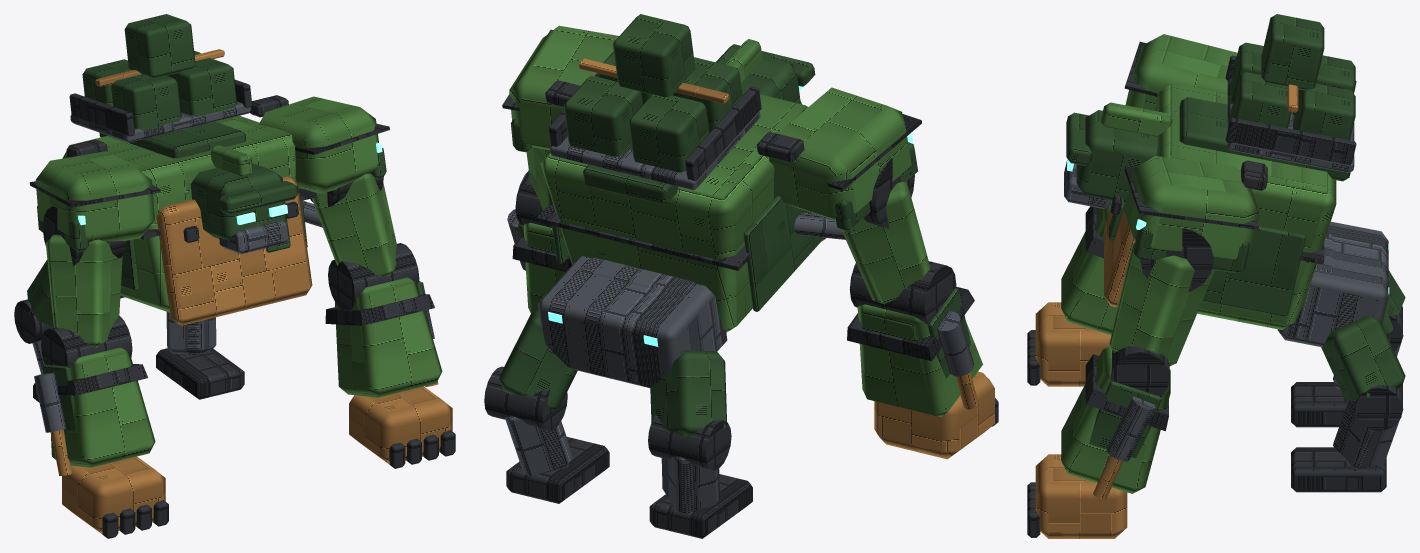
The model's file is ape_l_v1.glb.
The picture shows the model from 3 angles, left to right: view 1: azimuth 30°, elevation 25°; view 2: azimuth 150°, elevation 25°; view 3: azimuth 270°, elevation 25°; orthographic projection. The views are drawn at different scales.
Parts seen in each view (by area): view 1: ape_l; view 2: ape_l; view 3: ape_l.
Boxes of the visible parts, x1,y1,x2,y2 form: ape_l: [14, 14, 455, 538]; ape_l: [484, 14, 998, 538]; ape_l: [1027, 14, 1405, 538].
Size of the model in its own units: 2.64 by 2.55 by 2.06.
Materials: 6 (5 with a texture image).
